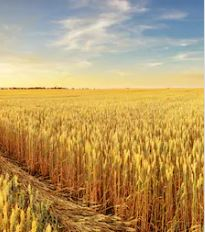Wheat: (48, 133, 164, 192)
